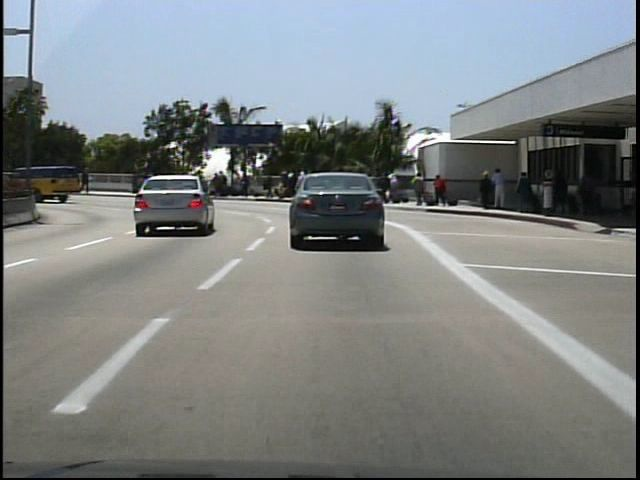person: (579, 163, 603, 219), (488, 164, 510, 215), (514, 167, 536, 215), (552, 165, 572, 216), (478, 167, 496, 209), (411, 170, 429, 209), (433, 169, 451, 208), (380, 171, 393, 207), (145, 167, 163, 193), (80, 165, 95, 194), (128, 170, 145, 195)
